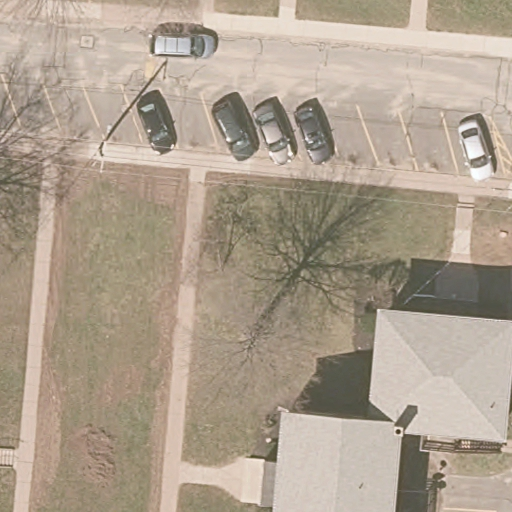DT: (90, 117, 122, 173)
